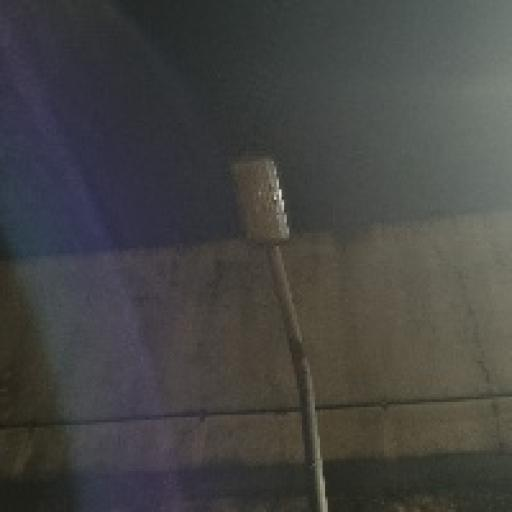Not Working: (202, 137, 313, 269)
